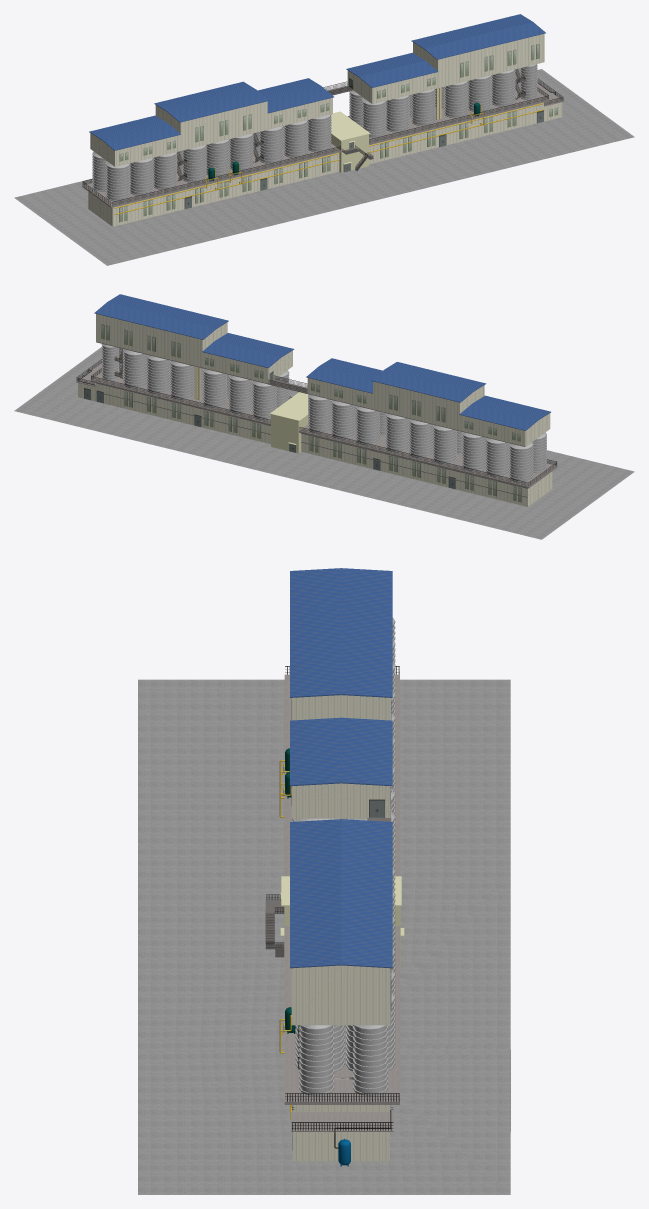
The model's file is 均化间.gltf.
The picture shows the model from 3 angles, top to bottom: view 1: azimuth 30°, elevation 25°; view 2: azimuth 150°, elevation 25°; view 3: azimuth 270°, elevation 25°; orthographic projection. The views are drawn at different scales.
Visible parts, largest first — view 1: JH-WQ, JH-QB, JH-GD1, JH-SCG-002, JH-SCG-016, JH-SCG-020, JH-SCG-014, JH-SCG-006, JH-SCG-008, JH-SCG-026, JH-SCG-024, JH-SCG-004 (+9 smaller); view 2: JH-WQ, JH-QB, JH-SCG-001, JH-SCG-023, JH-SCG-007, JH-SCG-013, JH-SCG-015, JH-SCG-025, JH-SCG-011, JH-SCG-003, JH-SCG-021, JH-SCG-027 (+7 smaller); view 3: JH-QB, JH-WQ, JH-SCG-032, JH-SCG-031.
Part boxes in pixels (x1,y1,x2,y2): JH-WQ: (88, 14, 562, 226); JH-QB: (14, 69, 634, 265); JH-GD1: (114, 103, 544, 214); JH-SCG-002: (105, 161, 130, 201); JH-SCG-016: (283, 120, 308, 158); JH-SCG-020: (361, 98, 386, 138); JH-SCG-014: (259, 126, 283, 164); JH-SCG-006: (153, 152, 177, 190); JH-SCG-008: (182, 145, 206, 183); JH-SCG-026: (444, 81, 468, 118); JH-SCG-024: (411, 89, 435, 126); JH-SCG-004: (130, 157, 153, 195); JH-WQ: (78, 294, 552, 506); JH-QB: (14, 342, 634, 539); JH-SCG-001: (509, 442, 533, 482); JH-SCG-023: (202, 368, 227, 407); JH-SCG-007: (432, 425, 457, 463); JH-SCG-013: (355, 406, 380, 445); JH-SCG-015: (331, 400, 355, 439); JH-SCG-025: (170, 360, 194, 399); JH-SCG-011: (385, 413, 409, 452); JH-SCG-003: (485, 437, 509, 476); JH-SCG-021: (228, 375, 252, 414); JH-SCG-027: (146, 355, 170, 394); JH-QB: (138, 666, 510, 1194); JH-WQ: (281, 568, 401, 1161); JH-SCG-032: (299, 1025, 334, 1095); JH-SCG-031: (352, 1025, 387, 1095).
Size of the model in its own units: 229 by 41.34 by 70.11.
Materials: 56 (15 with a texture image).
